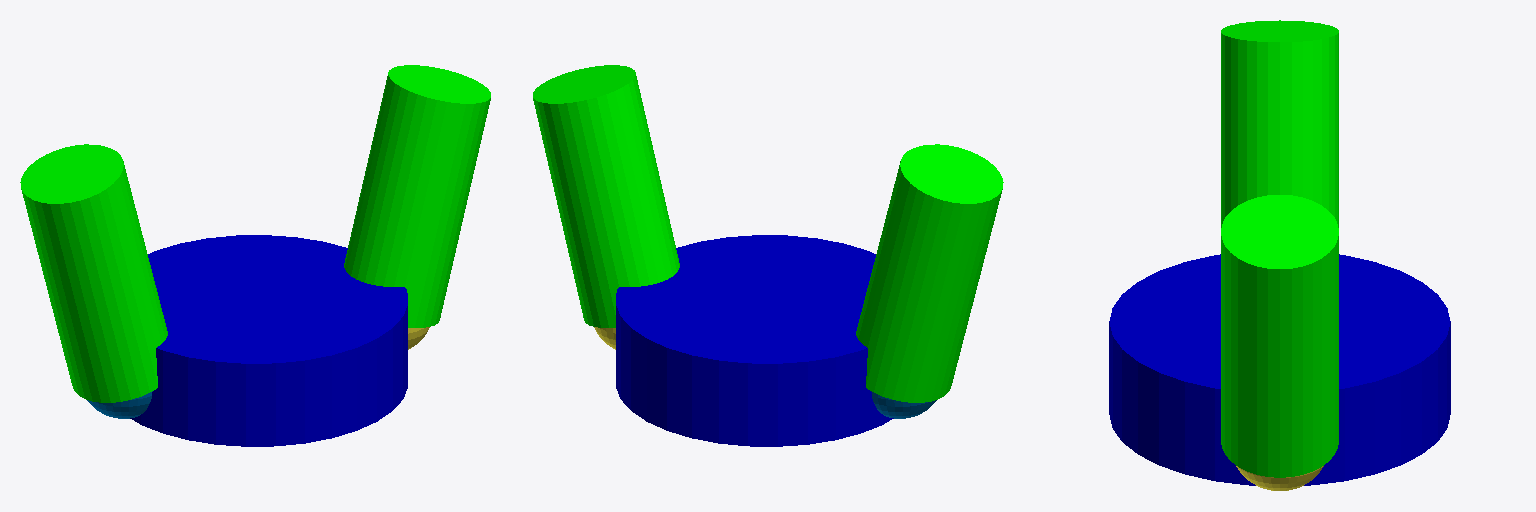
robot.urdf — gripper_2f_1j:
<?xml version='1.0' encoding='UTF-8'?>
<robot name="gripper_2f_1j">
  <link name="palm">
    <inertial>
      <origin xyz="0.0 0.0 0.0" rpy="0.0 -0.0 0.0"/>
      <mass value="1.0"/>
      <inertia ixx="1.0" ixy="0.0" ixz="0.0" iyy="1.0" iyz="0.0" izz="1.0"/>
    </inertial>
    <visual>
      <geometry>
        <cylinder radius="0.05" length="0.03"/>
      </geometry>
      <material name="blue"/>
      <origin xyz="0.0 0.0 0.0" rpy="0.0 -0.0 0.0"/>
    </visual>
    <collision>
      <geometry>
        <cylinder radius="0.05" length="0.03"/>
      </geometry>
      <origin xyz="0.0 0.0 0.0" rpy="0.0 0.0 0.0"/>
    </collision>
  </link>
  <link name="f11">
    <inertial>
      <origin xyz="0.0 0.0 0.0" rpy="0.0 -0.0 0.0"/>
      <mass value="1.0"/>
      <inertia ixx="1.0" ixy="0.0" ixz="0.0" iyy="1.0" iyz="0.0" izz="1.0"/>
    </inertial>
    <visual>
      <geometry>
        <cylinder radius="0.017344242856718248" length="0.07892180755967929"/>
      </geometry>
      <material name="green"/>
      <origin xyz="0.0 0.0 0.03946090377983964" rpy="0.0 -0.0 0.0"/>
    </visual>
    <collision>
      <geometry>
        <cylinder radius="0.017344242856718248" length="0.07892180755967929"/>
      </geometry>
      <origin xyz="0.0 0.0 0.05" rpy="0.0 0.0 0.0"/>
    </collision>
  </link>
  <link name="f21">
    <inertial>
      <origin xyz="0.0 0.0 0.0" rpy="0.0 -0.0 0.0"/>
      <mass value="1.0"/>
      <inertia ixx="1.0" ixy="0.0" ixz="0.0" iyy="1.0" iyz="0.0" izz="1.0"/>
    </inertial>
    <visual>
      <geometry>
        <cylinder radius="0.017344242856718248" length="0.07892180755967929"/>
      </geometry>
      <material name="green"/>
      <origin xyz="0.0 0.0 0.03946090377983964" rpy="0.0 -0.0 0.0"/>
    </visual>
    <collision>
      <geometry>
        <cylinder radius="0.017344242856718248" length="0.07892180755967929"/>
      </geometry>
      <origin xyz="0.0 0.0 0.05" rpy="0.0 0.0 0.0"/>
    </collision>
  </link>
  <link name="f11_base">
    <inertial>
      <origin xyz="0.0 0.0 0.0" rpy="0.0 -0.0 0.0"/>
      <mass value="1.0"/>
      <inertia ixx="1.0" ixy="0.0" ixz="0.0" iyy="1.0" iyz="0.0" izz="1.0"/>
    </inertial>
    <visual>
      <geometry>
        <sphere radius="0.015"/>
      </geometry>
      <origin xyz="0.0 0.0 0.0" rpy="0.0 -0.0 0.0"/>
    </visual>
  </link>
  <link name="f21_base">
    <inertial>
      <origin xyz="0.0 0.0 0.0" rpy="0.0 -0.0 0.0"/>
      <mass value="1.0"/>
      <inertia ixx="1.0" ixy="0.0" ixz="0.0" iyy="1.0" iyz="0.0" izz="1.0"/>
    </inertial>
    <visual>
      <geometry>
        <sphere radius="0.015"/>
      </geometry>
      <origin xyz="0.0 0.0 0.0" rpy="0.0 -0.0 0.0"/>
    </visual>
  </link>
  <joint name="f11_joint" type="revolute">
    <dynamics damping="100.0" friction="1.0"/>
    <limit effort="30.0" velocity="2.0" lower="-0.6" upper="0.25"/>
    <parent link="f11_base"/>
    <child link="f11"/>
    <axis xyz="0. 1. 0."/>
    <origin xyz="0.0 0.0 0.0" rpy="0.0 0.25 0.0"/>
  </joint>
  <joint name="f21_joint" type="revolute">
    <dynamics damping="100.0" friction="1.0"/>
    <limit effort="30.0" velocity="2.0" lower="-0.6" upper="0.25"/>
    <parent link="f21_base"/>
    <child link="f21"/>
    <axis xyz=" 0. -1.  0."/>
    <origin xyz="0.0 0.0 0.0" rpy="0.0 -0.25 0.0"/>
  </joint>
  <joint name="f11_base_joint" type="fixed">
    <parent link="palm"/>
    <child link="f11_base"/>
    <axis xyz="1. 0. 0."/>
    <origin xyz="0.05 0.0 0.0" rpy="0.0 0.0 0.0"/>
  </joint>
  <joint name="f21_base_joint" type="fixed">
    <parent link="palm"/>
    <child link="f21_base"/>
    <axis xyz="1. 0. 0."/>
    <origin xyz="-0.05 -0.0 0.0" rpy="0.0 0.0 0.0"/>
  </joint>
  <material name="blue">
    <color rgba="0.  0.  0.8 1. "/>
  </material>
  <material name="green">
    <color rgba="0. 1. 0. 1."/>
  </material>
</robot>

--- Render facts (derived) ---
Views: 3 orthographic renders of the robot side by side, from view 1: azimuth 30°, elevation 25°; view 2: azimuth 150°, elevation 25°; view 3: azimuth 270°, elevation 25°.
Robot: gripper_2f_1j — 5 links, 4 joints (2 revolute, 2 fixed); root link palm; default pose: every joint at zero.
Links seen in each view (by area): view 1: palm, f21, f11, f21_base; view 2: palm, f21, f11, f21_base; view 3: palm, f11, f21, f11_base.
Link boxes in pixels (box(x1,y1,x2,y2)): palm: box(130, 235, 407, 446); f21: box(20, 144, 167, 402); f11: box(344, 65, 490, 327); f21_base: box(87, 391, 152, 418); palm: box(616, 235, 893, 446); f21: box(856, 144, 1003, 402); f11: box(533, 65, 679, 327); f21_base: box(871, 391, 936, 418); palm: box(1109, 254, 1450, 485); f11: box(1221, 195, 1338, 477); f21: box(1221, 20, 1338, 227); f11_base: box(1236, 466, 1323, 490).
Size in the robot's own frame: 0.1727 by 0.1 by 0.0958 metres.
Geometry: primitives only (box / cylinder / sphere), no mesh files.